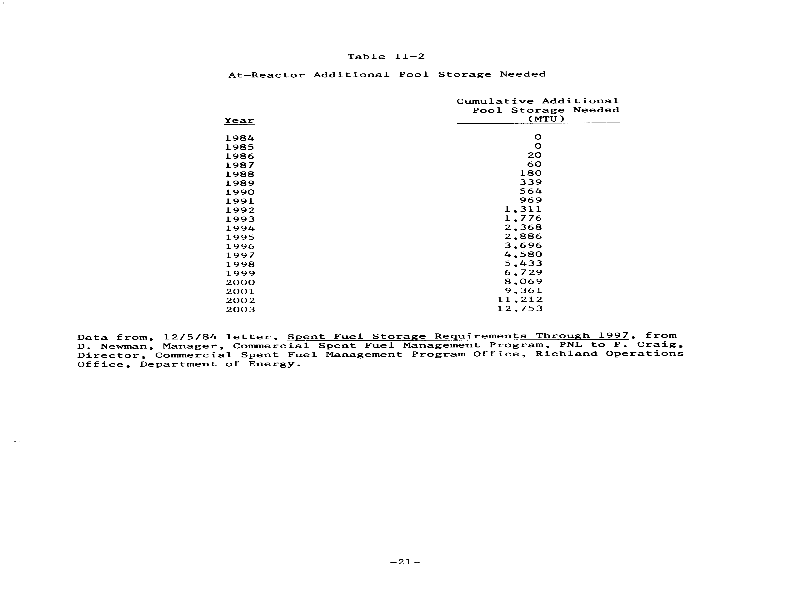table: (216, 91, 634, 320)
